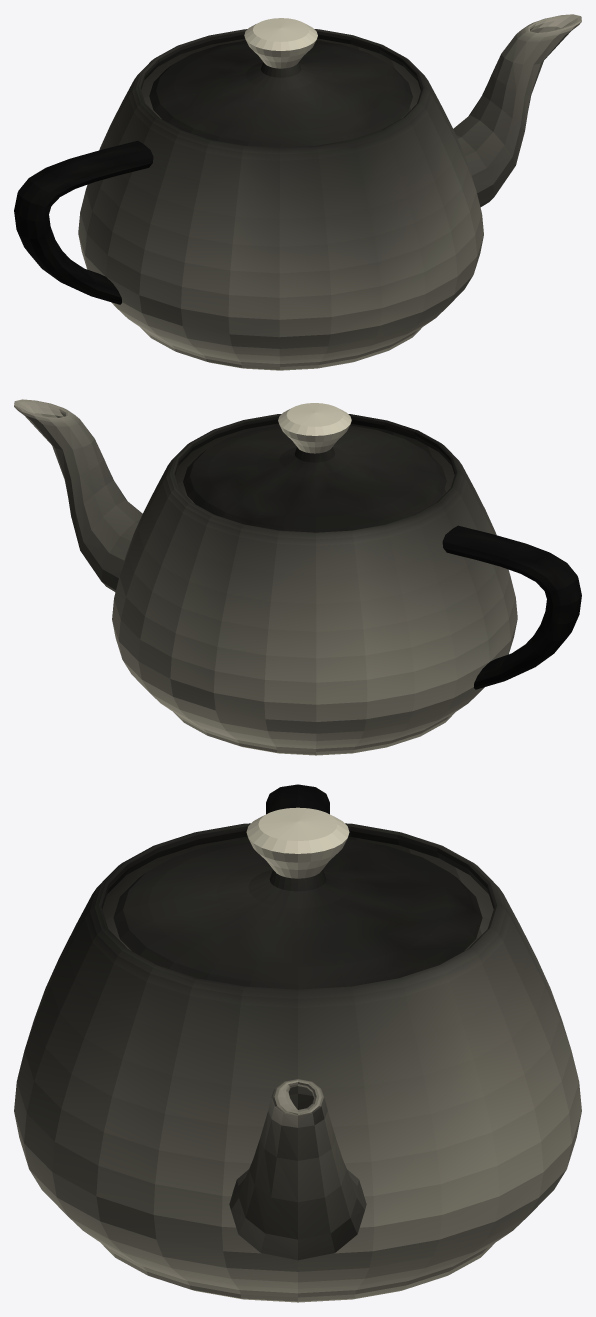
The model's file is teapot.dae.
The picture shows the model from 3 angles, top to bottom: view 1: azimuth 30°, elevation 25°; view 2: azimuth 150°, elevation 25°; view 3: azimuth 270°, elevation 25°; orthographic projection. The views are drawn at different scales.
Parts seen in each view (by area): view 1: node; view 2: node; view 3: node.
Boxes of the visible parts, bbox=[...] form: node: bbox=[14, 14, 581, 370]; node: bbox=[14, 399, 581, 755]; node: bbox=[14, 784, 581, 1302].
Bounding box in the file's own units: 6.43 × 3.15 × 4.
